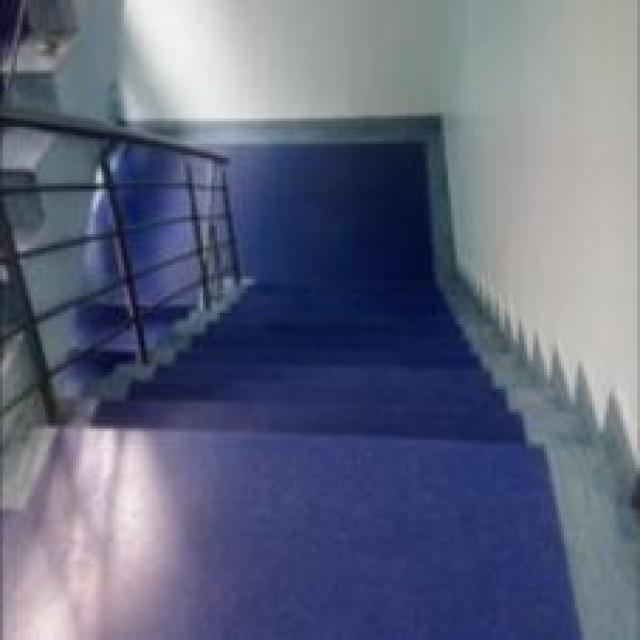downstair: (83, 325, 573, 520)
